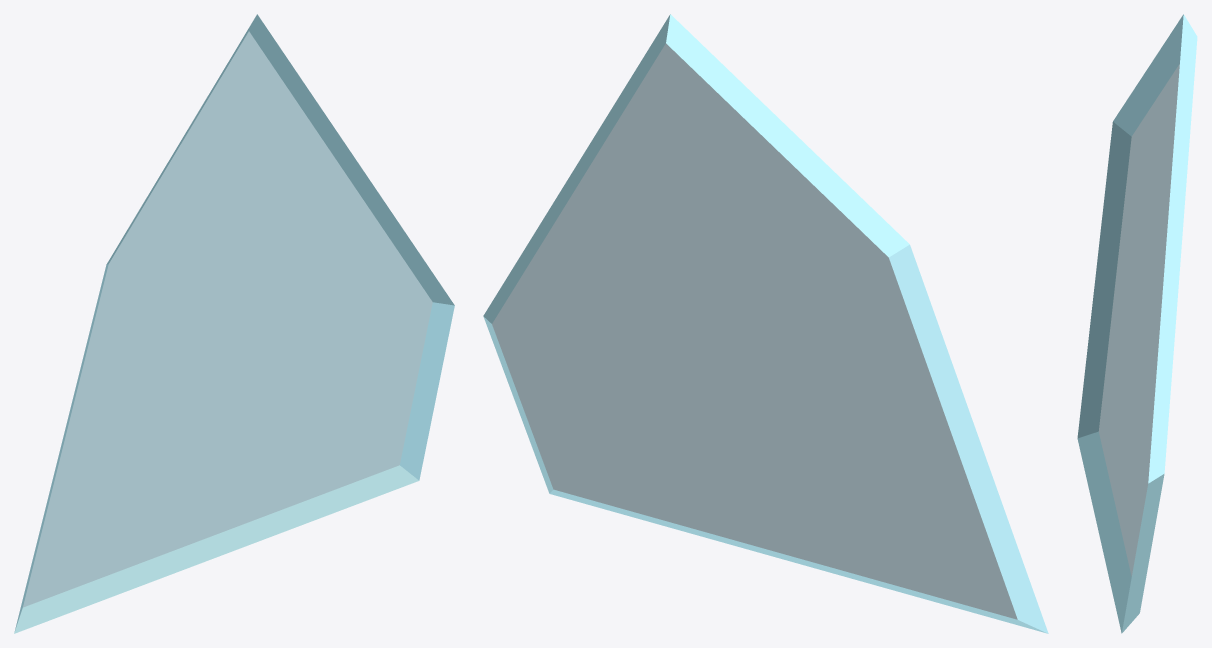
Rendered from snow_globe_shard_front.glb.
3 views of the same model, side by side, from view 1: azimuth 30°, elevation 25°; view 2: azimuth 150°, elevation 25°; view 3: azimuth 270°, elevation 25° (orthographic). The views are drawn at different scales.
Parts seen in each view (by area): view 1: New faceted glass segment.001; view 2: New faceted glass segment.001; view 3: New faceted glass segment.001.
Boxes of the visible parts, x1,y1,x2,y2 form: New faceted glass segment.001: (14, 14, 454, 633); New faceted glass segment.001: (483, 14, 1048, 633); New faceted glass segment.001: (1077, 14, 1197, 633).
Size of the model in its own units: 0.07 by 0.073 by 0.0136.
